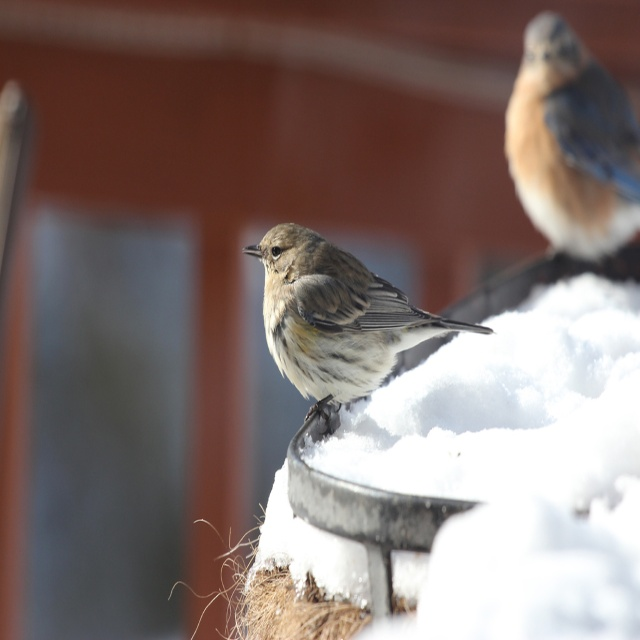Sparrow: (244, 222, 493, 429), (505, 7, 639, 260)
